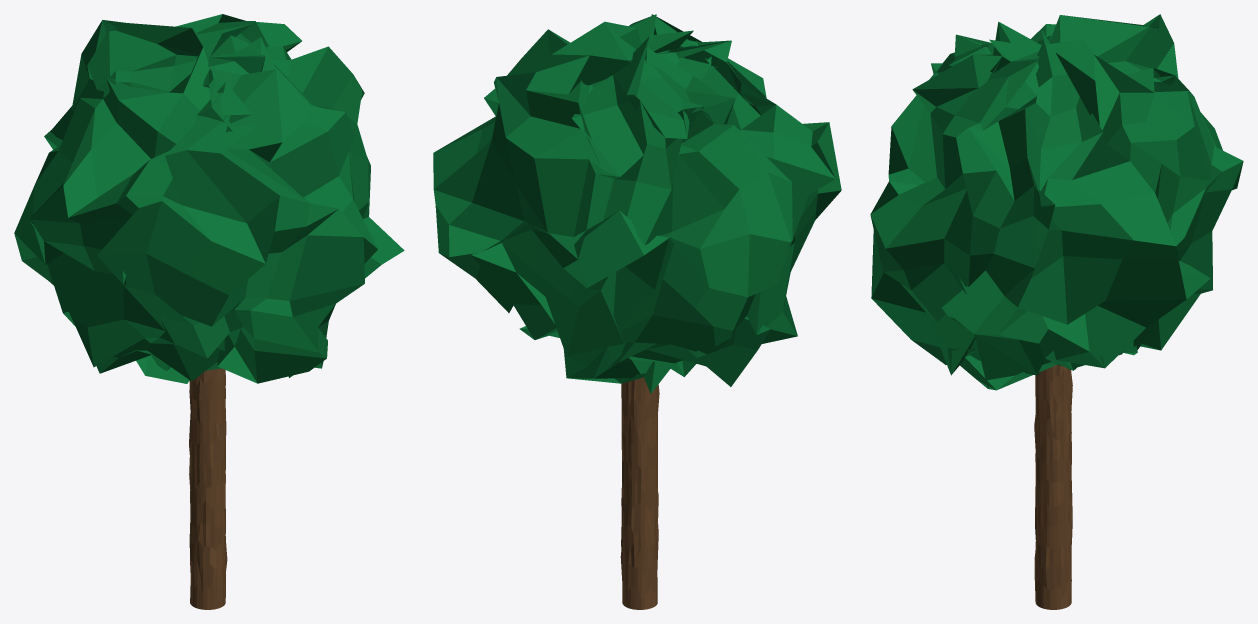
Rendered from tree.fbx.
3 renders of one model, left to right at view 1: azimuth 30°, elevation 25°; view 2: azimuth 150°, elevation 25°; view 3: azimuth 270°, elevation 25°, orthographic.
Visible parts, largest first — view 1: Sphere; view 2: Sphere; view 3: Sphere.
Part boxes in pixels (box(x1,y1,x2,y2)): Sphere: box(14, 14, 404, 609); Sphere: box(433, 14, 841, 609); Sphere: box(870, 14, 1243, 609).
Size of the model in its own units: 1302 by 2127 by 1238.
